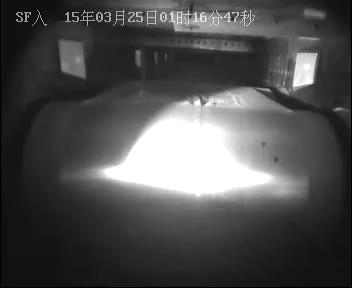wrinkled steel: (180, 85, 249, 110)
